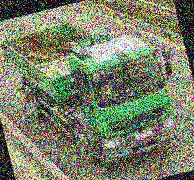truck: (0, 0, 192, 180)
